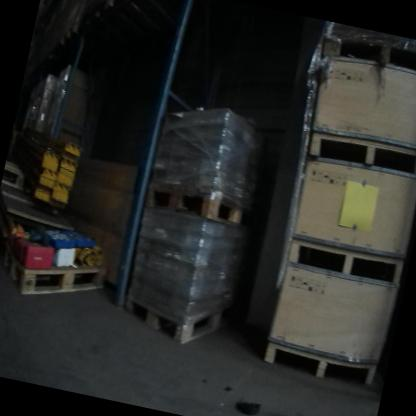pallet: (0, 237, 107, 312), (118, 288, 225, 352), (284, 232, 404, 289), (305, 123, 416, 182), (261, 335, 378, 389), (317, 23, 416, 79), (143, 178, 246, 229)
